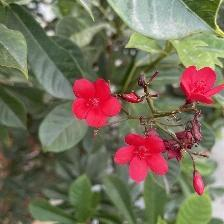jatropha: (73, 73, 125, 128)
